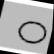no answer: (15, 20, 50, 47)
